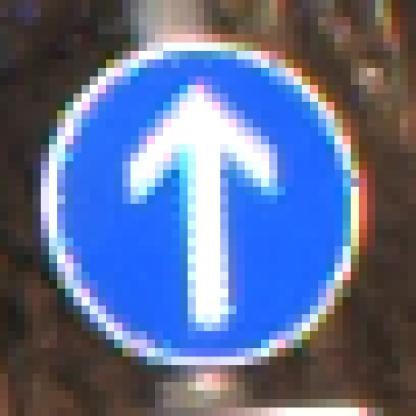AheadOnly: (42, 44, 368, 375)
